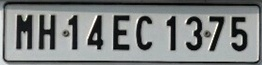character: (15, 12, 34, 50), (183, 14, 203, 50), (37, 13, 55, 51), (112, 13, 130, 51), (134, 14, 152, 50), (230, 15, 248, 51), (86, 13, 103, 50), (207, 14, 224, 51), (165, 14, 177, 51), (67, 14, 78, 50)
